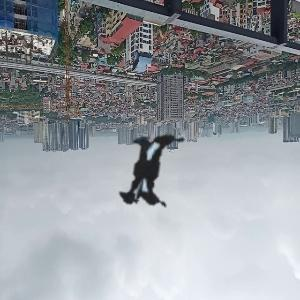drone: (29, 54, 268, 293)
